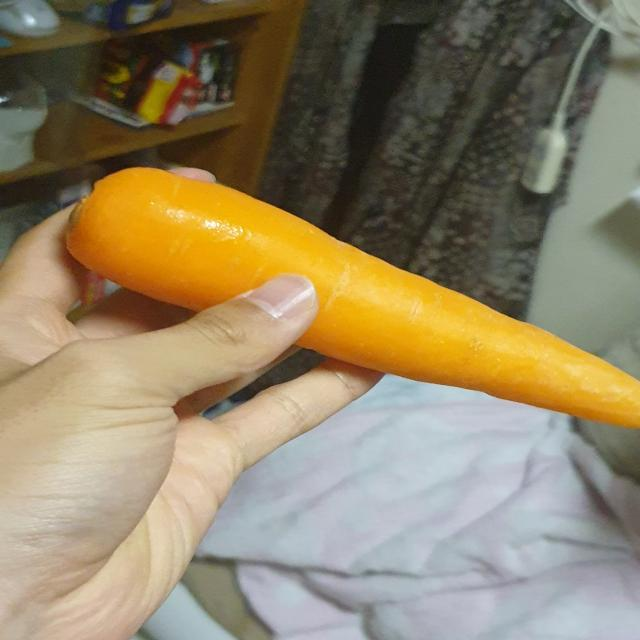Carrot: (52, 159, 640, 445)
